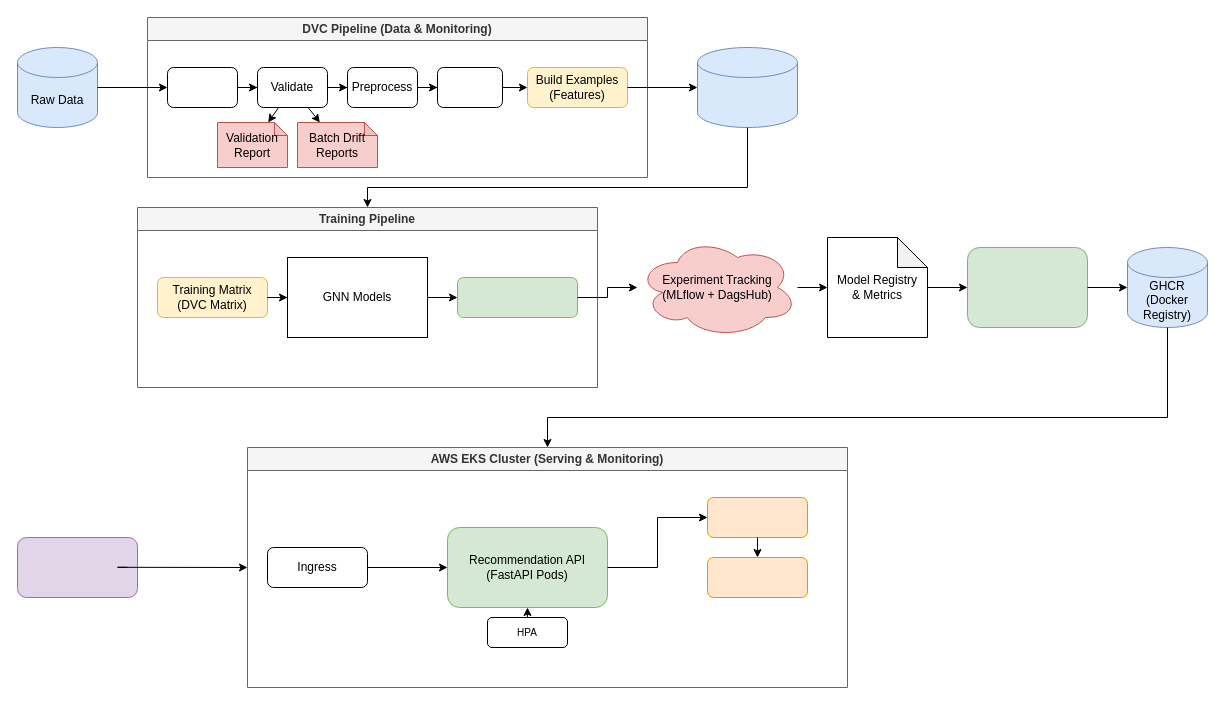
This 1225x705 diagram has some shape labels left out. Here are the shapes that lost their labels. From the top down, the centre of each, then its label:
point (202, 87): Ingest
point (469, 87): Split
point (747, 87): Processed Data / Features
point (517, 297): Select Best Model
point (1027, 287): GitHub Actions (CI/CD)
point (757, 517): Prometheus
point (77, 567): Terraform (Infrastructure)
point (757, 577): Grafana
